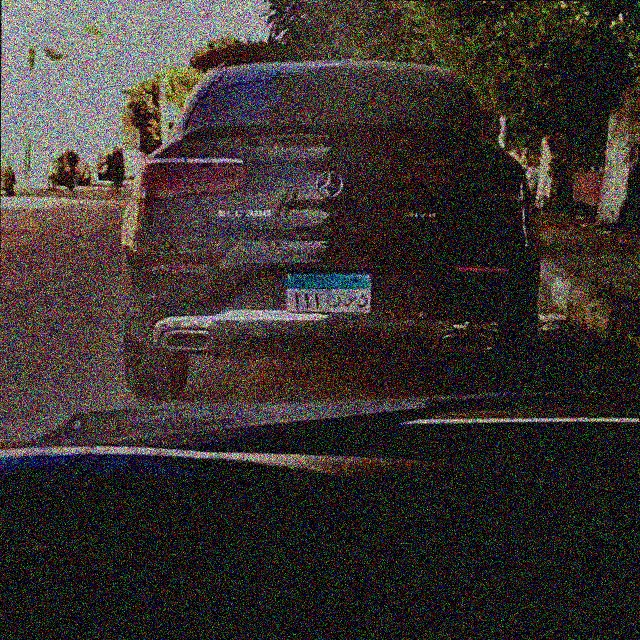License Plate: (283, 269, 374, 315)
